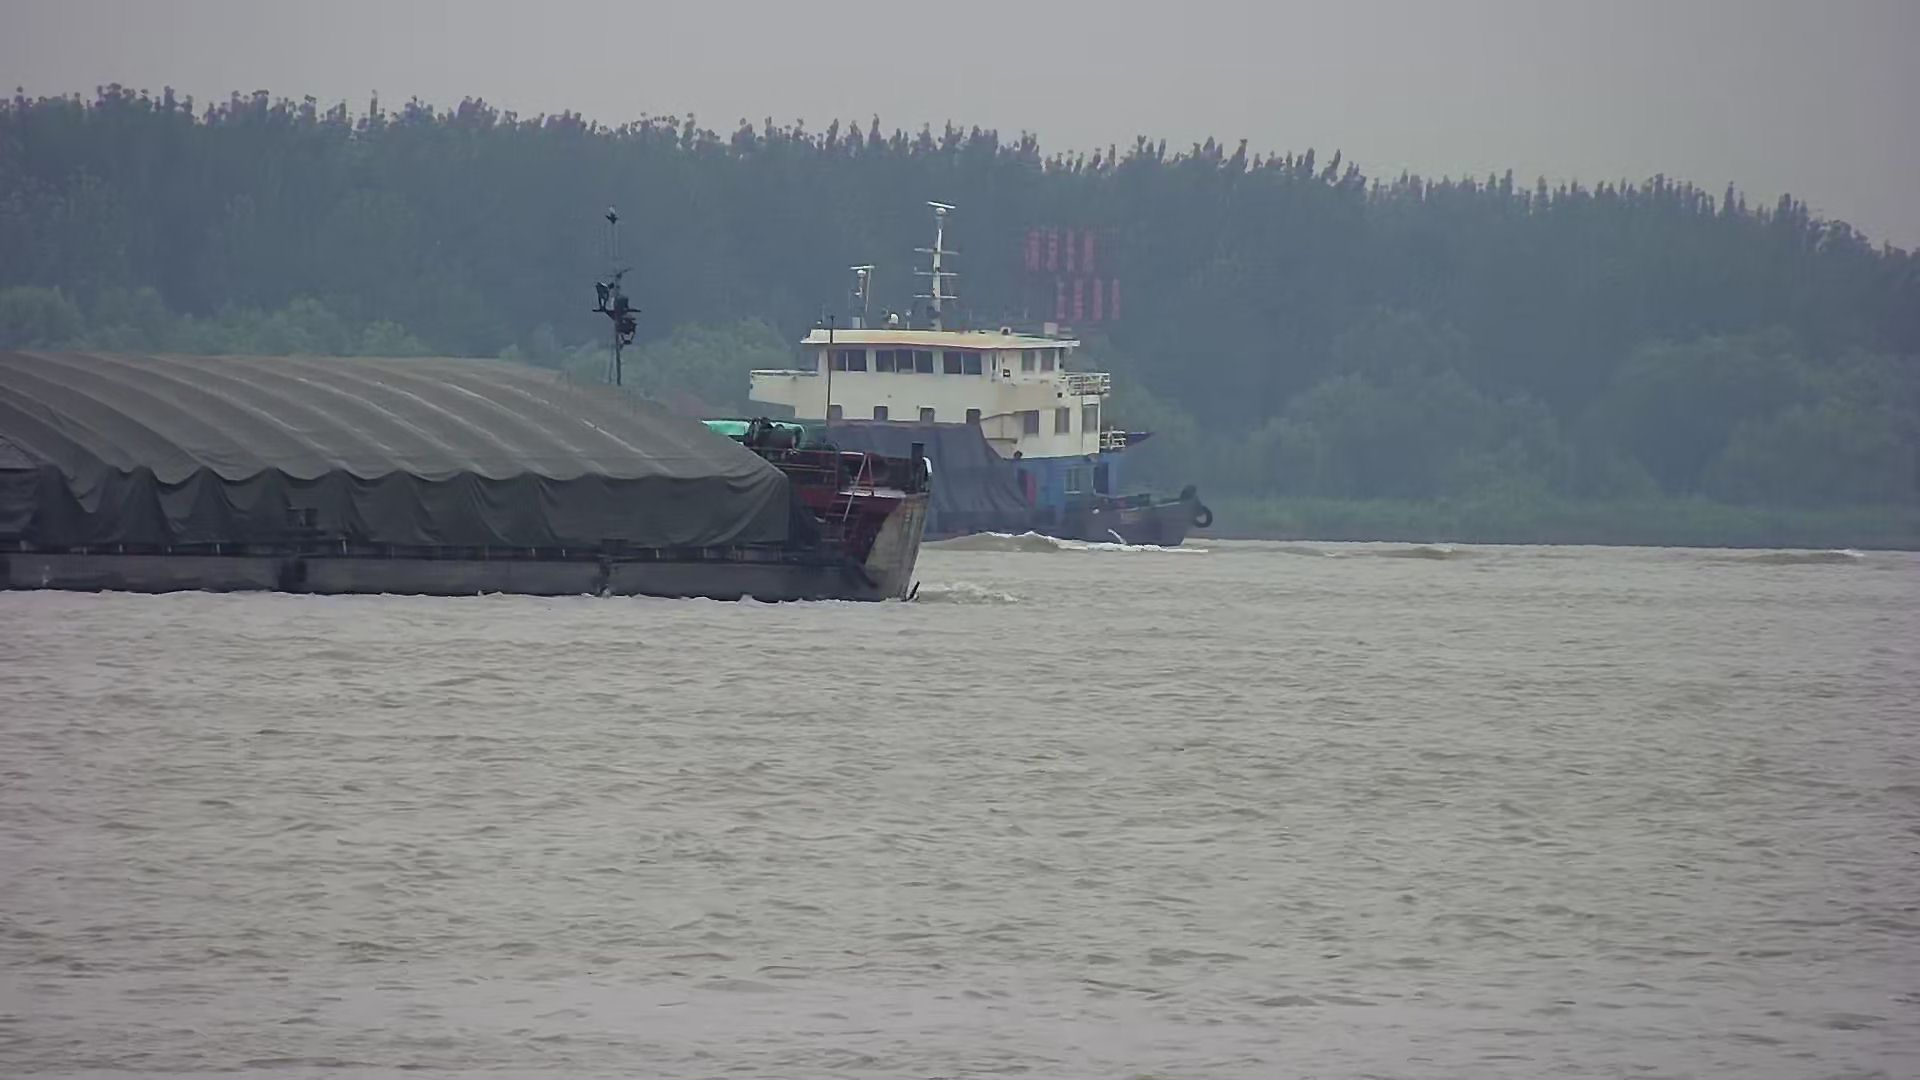ship: (1, 200, 928, 607), (355, 265, 1201, 558)
